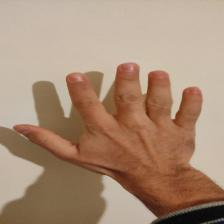five: (18, 61, 200, 178)
